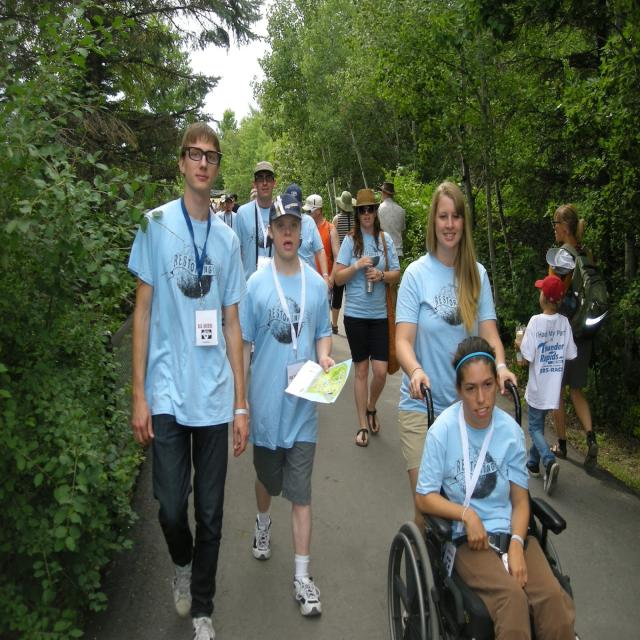body: (126, 120, 248, 640), (393, 180, 518, 635), (412, 332, 578, 640), (234, 192, 354, 618), (333, 186, 402, 447), (546, 202, 610, 472), (513, 272, 579, 497), (232, 160, 278, 282), (281, 182, 329, 294), (375, 180, 407, 310), (330, 189, 358, 335), (301, 193, 341, 294), (217, 192, 238, 231), (228, 192, 241, 214), (215, 194, 226, 216), (210, 194, 220, 213), (250, 187, 258, 200)
